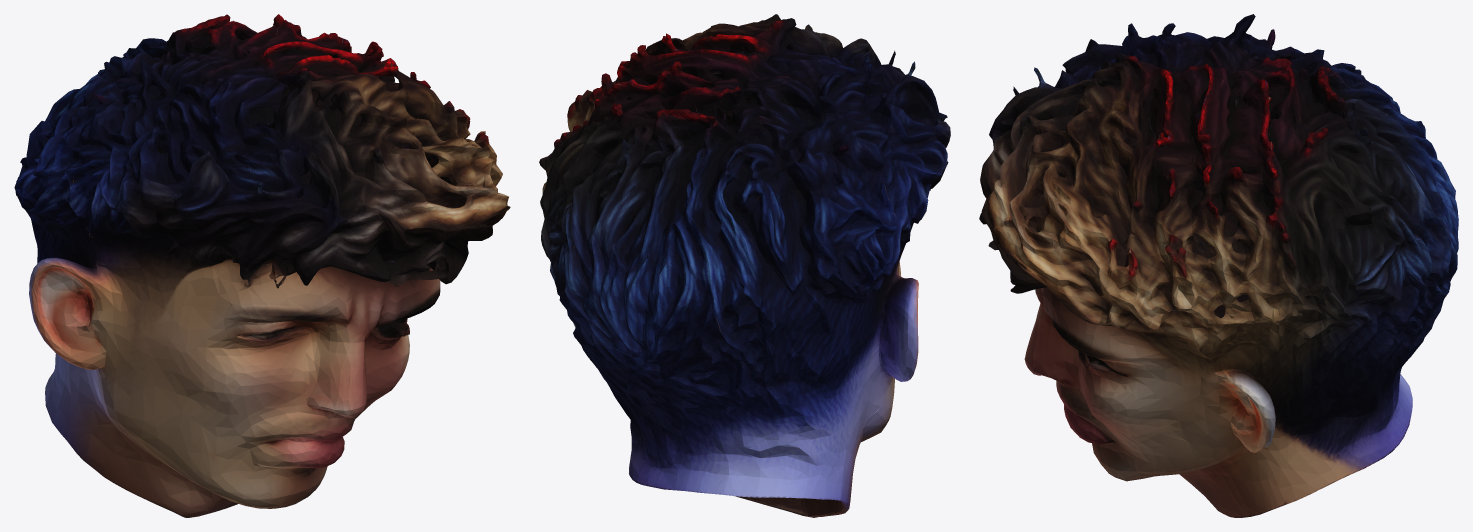
3 renders of one model, left to right at view 1: azimuth 30°, elevation 25°; view 2: azimuth 150°, elevation 25°; view 3: azimuth 270°, elevation 25°, orthographic. The views are drawn at different scales.
Visible parts, largest first — view 1: world; view 2: world; view 3: world.
Part boxes in pixels (x1,y1,x2,y2): world: [14, 14, 510, 517]; world: [539, 14, 950, 517]; world: [979, 14, 1458, 517].
Size of the model in its own units: 0.9055 by 0.9989 by 0.9342.
1 material, 1 textured.
